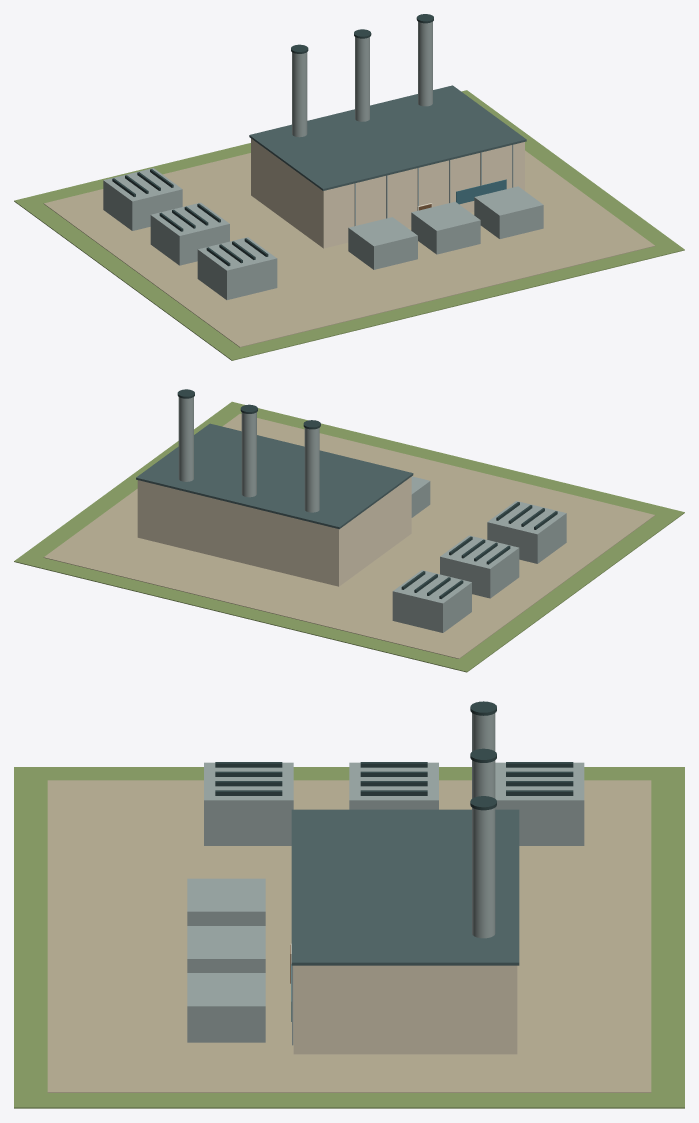
Rendered from non-renewable-power.glb.
3 renders of one model, top to bottom at view 1: azimuth 30°, elevation 25°; view 2: azimuth 150°, elevation 25°; view 3: azimuth 270°, elevation 25°, orthographic. The views are drawn at different scales.
Parts seen in each view (by area): view 1: non-renewable-power; view 2: non-renewable-power; view 3: non-renewable-power.
Part boxes in pixels (box(x1,y1,x2,y2)): non-renewable-power: box(14, 14, 684, 360); non-renewable-power: box(14, 389, 684, 672); non-renewable-power: box(14, 701, 684, 1108).
Bounding box in the file's own units: 72 × 22.35 × 60.
